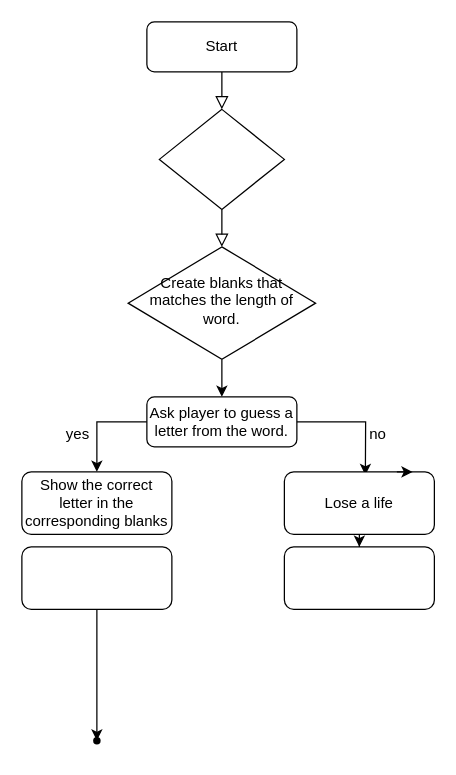
The diagram is 456 pixels wide and 775 high, and some of its shapes have lost their labels. Here are the shapes that lost their labels. From the top down, the centre of each, then its label:
At [221,158]: "Generate a random word.".
At [96,577]: "All letters guessed right?".
